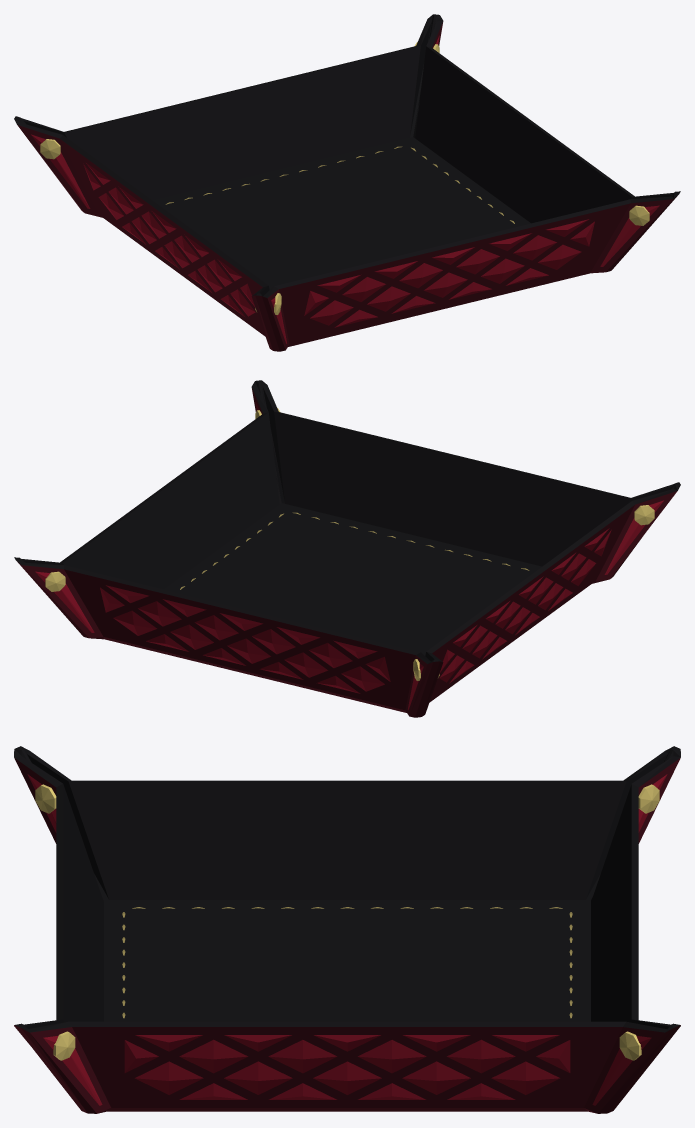
The model's file is folding-leather-dice-tray-c4ec45.glb.
The picture shows the model from 3 angles, top to bottom: view 1: azimuth 30°, elevation 25°; view 2: azimuth 150°, elevation 25°; view 3: azimuth 270°, elevation 25°; orthographic projection. The views are drawn at different scales.
Parts seen in each view (by area): view 1: tray, studs; view 2: tray, studs; view 3: tray, studs.
Part boxes in pixels (bbox=[...]): tray: bbox=[14, 14, 680, 351]; studs: bbox=[40, 42, 649, 314]; tray: bbox=[14, 380, 680, 717]; studs: bbox=[45, 408, 654, 680]; tray: bbox=[14, 746, 680, 1113]; studs: bbox=[35, 784, 659, 1060].
Bounding box in the file's own units: 0.2682 × 0.0545 × 0.2682.
